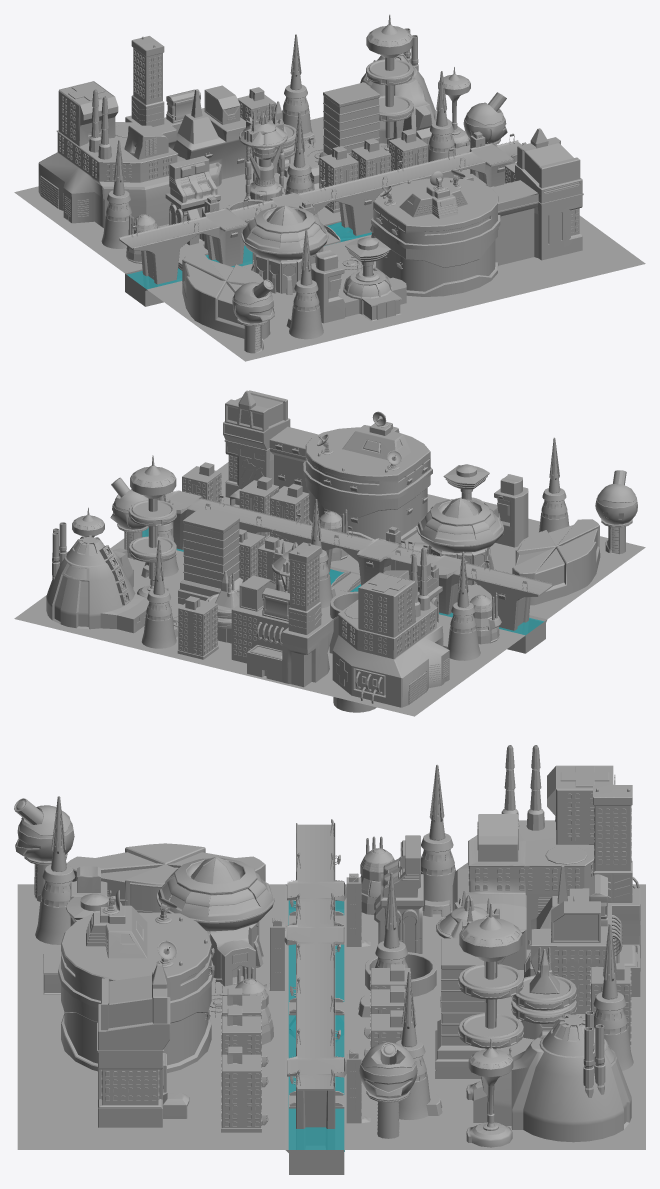
Rendered from Small_Cybertown.fbx.
3 views of the same model, one above another, from view 1: azimuth 30°, elevation 25°; view 2: azimuth 150°, elevation 25°; view 3: azimuth 270°, elevation 25° (orthographic). The views are drawn at different scales.
Parts seen in each view (by area): view 1: Officials_Building, Ground, Hospital, OverPass, Energon_Plant, Sanitation_Place, Entertainment_Establishment, Arena, Business_Building, Elite_Guard_Building, House_of_Science, RePurpose_Plant (+18 smaller); view 2: Officials_Building, Ground, Hospital, Energon_Plant, OverPass, RePurpose_Plant, Arena, Business_Building, Entertainment_Establishment, Sanitation_Place, Aparrtment7, Point_tower_1 (+22 smaller); view 3: Ground, Officials_Building, OverPass, Hospital, RePurpose_Plant, Energon_Plant, Entertainment_Establishment, Arena, Business_Building, House_of_Science, Energon, Aparrtment4 (+25 smaller).
Boxes of the visible parts, box(x1,y1,x2,y2) form: Officials_Building: box(371, 128, 583, 296); Ground: box(14, 110, 645, 361); Hospital: box(38, 81, 213, 227); OverPass: box(119, 131, 526, 284); Energon_Plant: box(125, 36, 246, 186); Sanitation_Place: box(310, 237, 406, 323); Entertainment_Establishment: box(241, 205, 328, 294); Arena: box(182, 254, 270, 339); Business_Building: box(309, 82, 379, 190); Elite_Guard_Building: box(239, 111, 287, 201); House_of_Science: box(165, 156, 220, 245); RePurpose_Plant: box(360, 28, 435, 145); Officials_Building: box(223, 390, 432, 540); Ground: box(14, 462, 645, 716); Hospital: box(329, 547, 449, 707); Energon_Plant: box(231, 542, 333, 687); OverPass: box(165, 490, 552, 630); RePurpose_Plant: box(46, 522, 149, 633); Arena: box(512, 519, 600, 605); Business_Building: box(178, 508, 242, 604); Entertainment_Establishment: box(413, 498, 503, 585); Sanitation_Place: box(443, 464, 528, 547); Aparrtment7: box(177, 596, 218, 659); Point_tower_1: box(141, 539, 178, 648); Ground: box(17, 884, 645, 1174); Officials_Building: box(58, 905, 214, 1127); OverPass: box(263, 819, 370, 1128); Hospital: box(452, 745, 639, 969); RePurpose_Plant: box(473, 1011, 631, 1142); Energon_Plant: box(523, 784, 640, 1013); Entertainment_Establishment: box(156, 857, 274, 986); Arena: box(66, 843, 265, 912); Business_Building: box(435, 938, 485, 1078); House_of_Science: box(374, 835, 423, 953); Energon: box(288, 900, 344, 1151); Aparrtment4: box(221, 1046, 268, 1132).
Bounding box in the file's own units: 940 × 505 × 924.
